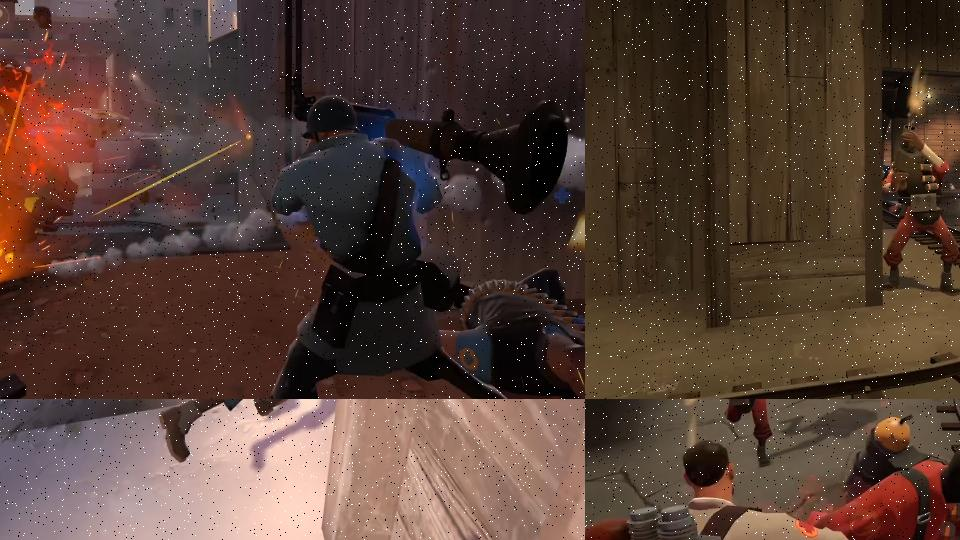Enemy: (256, 72, 572, 399), (585, 437, 882, 540), (429, 253, 585, 399), (793, 411, 960, 540), (879, 117, 959, 296), (159, 399, 356, 461), (691, 399, 773, 467)
